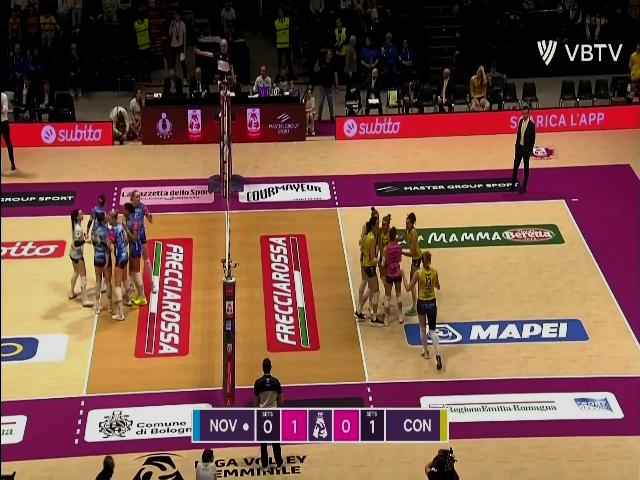volleyball court: (0, 202, 637, 399)
